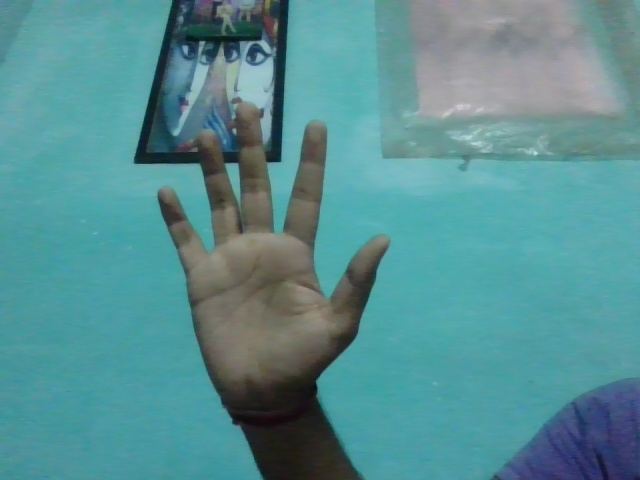hello: (142, 111, 397, 410)
